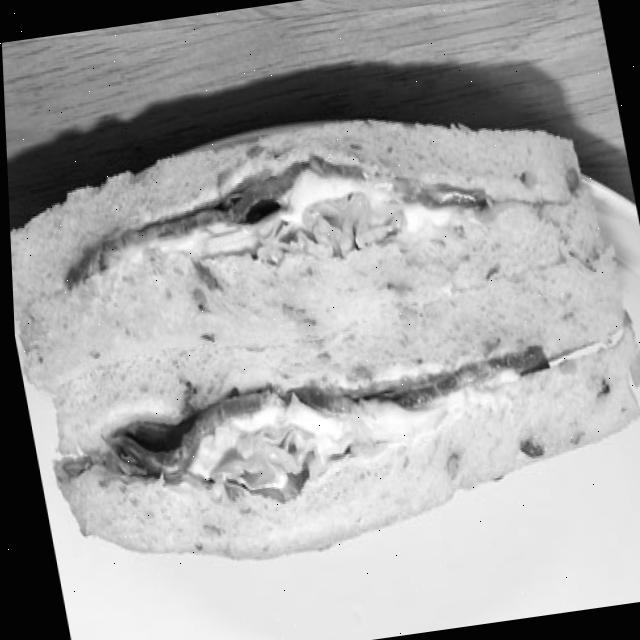三明治: (3, 82, 640, 603)
